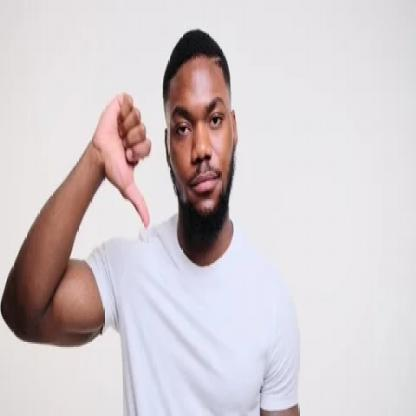Thumbs-Down: (80, 69, 164, 242)
